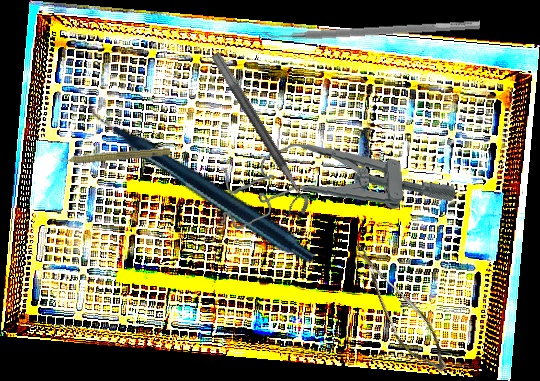Fixation Ring: (197, 50, 315, 223)
Handpiece: (84, 41, 319, 317), (52, 142, 171, 168)
Micro Scissor: (331, 245, 466, 379)
Spatula Surgical: (262, 10, 481, 45)
Speculum: (217, 135, 456, 231)
